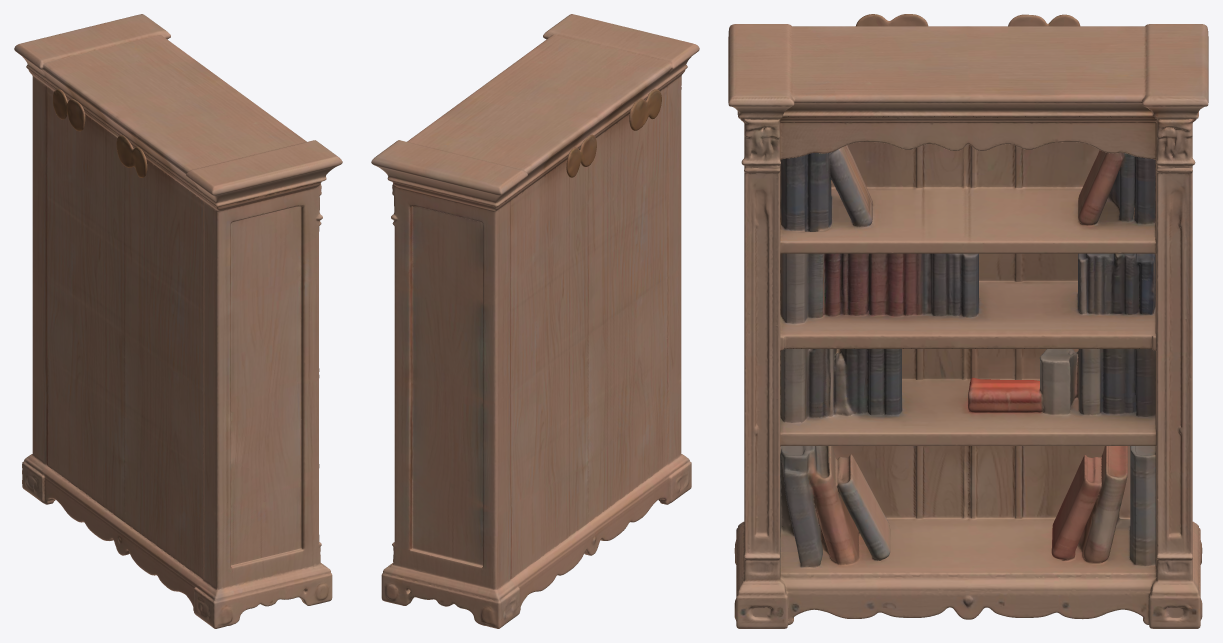
Rendered from detailed_realistic_model_ancientbookshelf_02.glb.
3 views of the same model, side by side, from view 1: azimuth 30°, elevation 25°; view 2: azimuth 150°, elevation 25°; view 3: azimuth 270°, elevation 25° (orthographic). The views are drawn at different scales.
Parts seen in each view (by area): view 1: tripo_node_1205aefc-d3d7-49b3-9fb6-4a6ba526e673; view 2: tripo_node_1205aefc-d3d7-49b3-9fb6-4a6ba526e673; view 3: tripo_node_1205aefc-d3d7-49b3-9fb6-4a6ba526e673.
Boxes of the visible parts, <box> form: tripo_node_1205aefc-d3d7-49b3-9fb6-4a6ba526e673: <box>14,14,342,628</box>; tripo_node_1205aefc-d3d7-49b3-9fb6-4a6ba526e673: <box>371,14,699,628</box>; tripo_node_1205aefc-d3d7-49b3-9fb6-4a6ba526e673: <box>728,14,1208,628</box>.
Size of the model in its own units: 0.3418 by 1 by 0.8109.
Materials: 1 (1 with a texture image).
